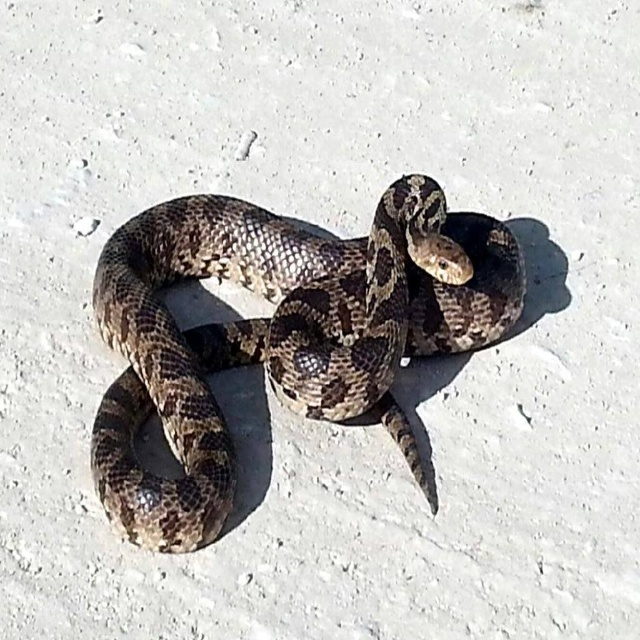Snake: (90, 174, 526, 554)
